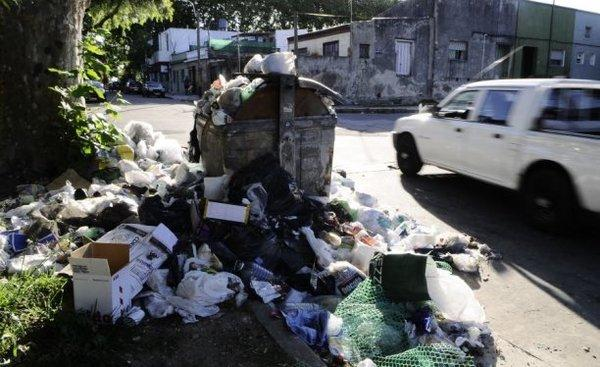Dechets: (333, 169, 498, 366), (228, 156, 364, 364), (0, 218, 245, 323), (48, 160, 202, 237), (335, 280, 472, 366), (190, 171, 258, 278), (113, 120, 201, 193), (307, 182, 366, 284), (0, 180, 74, 253), (69, 239, 130, 319), (429, 231, 501, 287), (194, 75, 266, 125), (369, 252, 430, 302), (5, 184, 73, 221), (244, 51, 296, 74), (315, 85, 343, 118)
Trash: (189, 73, 342, 195)
